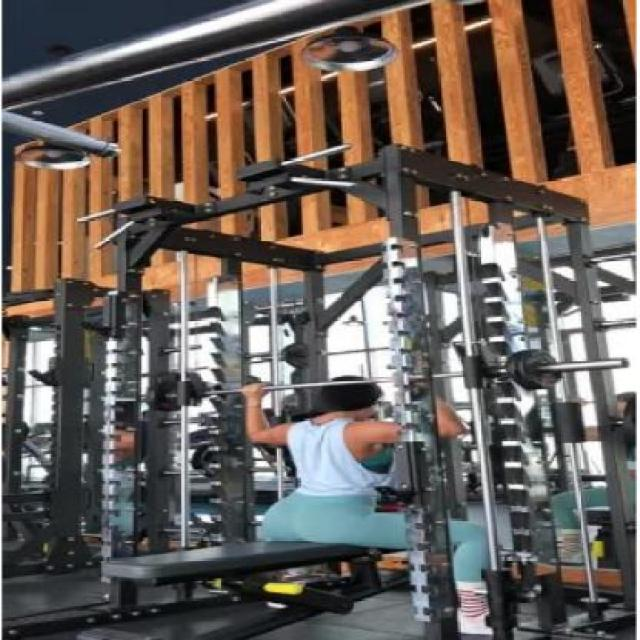smith machine: (78, 144, 632, 640)
